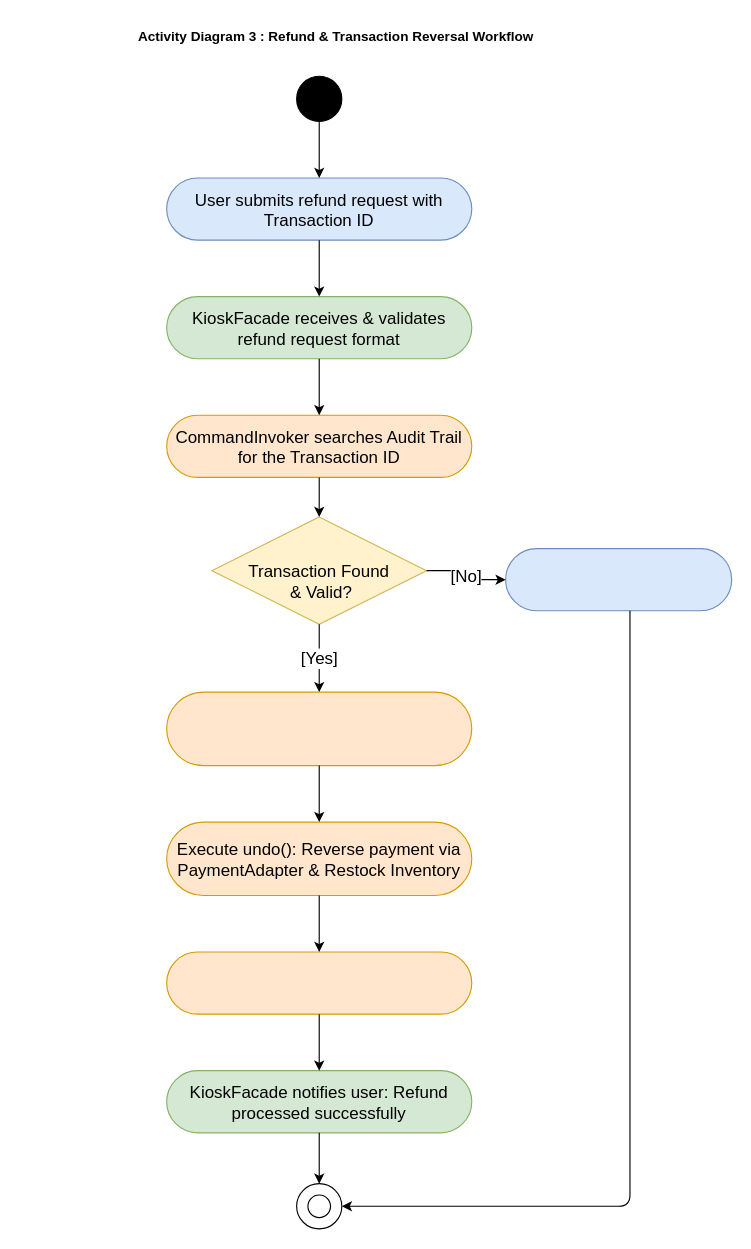
Image size: 751x1249. Some labels were removed from this diagram. The centre of each missing label's shape, as x and y in pixels:
Generate RefundCommand & fetch original PurchaseCommand from log: point 319,728
Log transaction reversal in CentralRegistry Audit Trail: point 319,982
Reject refund: Transaction not found, expired, or invalid: point 618,579
